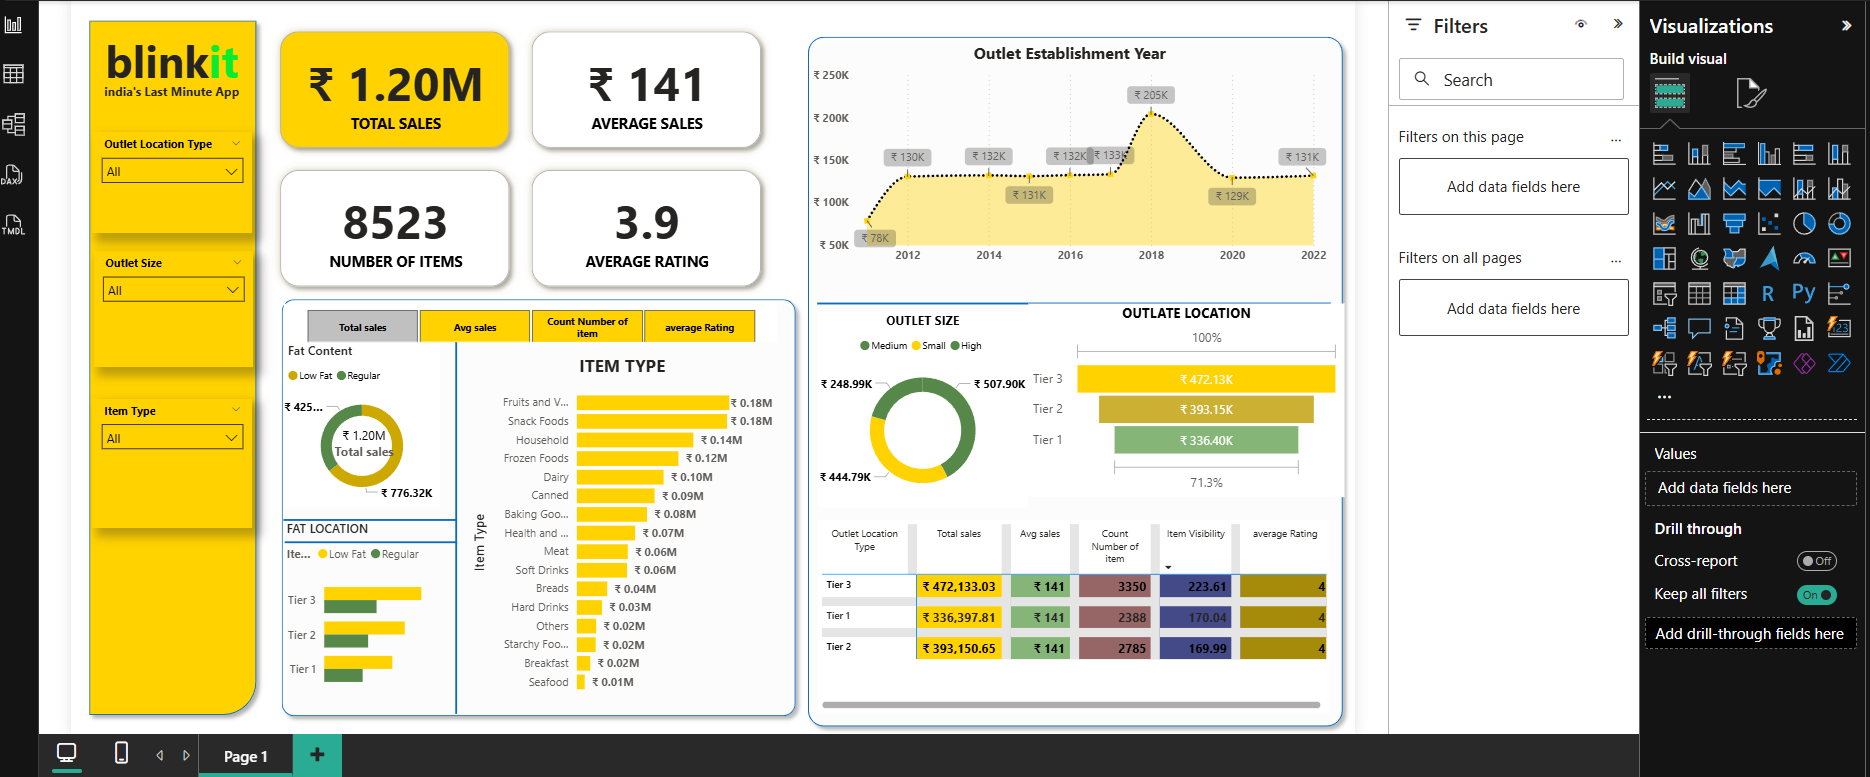

Layout of this report page (visuals, bound fields, positions):
{"tool":"powerbi","page":{"name":"Page 1","canvas":[1400,800],"ordinal":0},"visuals":[{"type":"shape","box":[11.2,12.8,200.3,775.5],"z":0},{"type":"textbox","box":[261.2,664.9,289.7,99.1],"z":1000},{"type":"textbox","box":[31.5,27,157.6,79.5],"z":2000},{"type":"textbox","box":[31.5,84,157.6,45],"z":3000},{"type":"cardVisual","fields":{"Data":["BlinkIT Grocery Data.Total sales","BlinkIT Grocery Data.Avg sales","BlinkIT Grocery Data.Count Number of item","BlinkIT Grocery Data.average Rating"]},"box":[211.3,16.4,559,313.6],"z":4000},{"type":"shape","box":[221.1,315.6,578.4,472.6],"z":5000},{"type":"donutChart","title":"Fat Content","fields":{"Y":["BlinkIT Grocery Data.Total sales"],"Category":["BlinkIT Grocery Data.Item Fat Content"]},"box":[232.3,371.7,171.4,181],"z":6000},{"type":"slicer","fields":{"Values":["MATRIX.MATRIX"]},"box":[232.3,330.1,538.3,41.7],"z":7000},{"type":"cardVisual","fields":{"Data":["BlinkIT Grocery Data.Total sales"]},"box":[261.2,447,117,65.7],"z":8000},{"type":"clusteredBarChart","title":"FAT LOCATION","fields":{"Y":["BlinkIT Grocery Data.Total sales"],"Category":["BlinkIT Grocery Data.Outlet Location Type"],"Series":["BlinkIT Grocery Data.Item Fat Content"]},"box":[230.7,565.6,189.1,198.7],"z":9000},{"type":"barChart","title":"ITEM TYPE","fields":{"Y":["BlinkIT Grocery Data.Total sales"],"Category":["BlinkIT Grocery Data.Item Type"]},"box":[432.6,384.5,338.1,379.7],"z":10000},{"type":"shape","box":[232.3,408.6,189.1,314],"z":11000},{"type":"shape","box":[314,371.7,213.1,405.4],"z":12000},{"type":"shape","box":[794.8,30,601.2,770.3],"z":13000},{"type":"lineChart","title":" Outlet Establishment Year","fields":{"Y":["BlinkIT Grocery Data.Total sales"],"Category":["BlinkIT Grocery Data.Outlet Establishment Year"]},"box":[804.4,45,569.9,250.9],"z":14000},{"type":"shape","box":[813.9,173.1,560.3,313.6],"z":15000},{"type":"shape","box":[233.1,433.5,188.1,313.6],"z":16000},{"type":"donutChart","title":"OUTLET SIZE","fields":{"Y":["BlinkIT Grocery Data.Total sales"],"Category":["BlinkIT Grocery Data.Outlet Size"]},"box":[813.9,339.5,230.4,212.7],"z":17000},{"type":"funnel","title":"OUTLATE LOCATION","fields":{"Y":["BlinkIT Grocery Data.Total sales"],"Category":["BlinkIT Grocery Data.Outlet Location Type"]},"box":[1044.3,329.9,344.9,211.3],"z":18000},{"type":"pivotTable","fields":{"Rows":["BlinkIT Grocery Data.Outlet Location Type"],"Values":["BlinkIT Grocery Data.Total sales","BlinkIT Grocery Data.Avg sales","BlinkIT Grocery Data.Count Number of item","Sum(BlinkIT Grocery Data.Item Visibility)","BlinkIT Grocery Data.average Rating"]},"box":[813.9,565.8,560.3,211.3],"z":19000},{"type":"slicer","fields":{"Values":["BlinkIT Grocery Data.Outlet Location Type"]},"box":[23.2,143.2,174.5,110.4],"z":20000},{"type":"slicer","fields":{"Values":["BlinkIT Grocery Data.Outlet Size"]},"box":[24.5,272.7,174.5,126.8],"z":21000},{"type":"slicer","fields":{"Values":["BlinkIT Grocery Data.Item Type"]},"box":[23.2,433.5,174.5,140.4],"z":22000}]}

Visuals, with their boxes on the page's 1400x800 design canvas (x1, y1, x2, y2). These are canvas units, not pixel positions in the 1870x777 screenshot, which may show the page scaled, cropped or inside an application window:
shape: x1=11, y1=13, x2=212, y2=788
textbox: x1=261, y1=665, x2=551, y2=764
textbox: x1=32, y1=27, x2=189, y2=106
textbox: x1=32, y1=84, x2=189, y2=129
cardVisual - BlinkIT Grocery Data.Total sales x BlinkIT Grocery Data.Avg sales: x1=211, y1=16, x2=770, y2=330
shape: x1=221, y1=316, x2=800, y2=788
"Fat Content" donutChart: x1=232, y1=372, x2=404, y2=553
slicer - MATRIX.MATRIX: x1=232, y1=330, x2=771, y2=372
cardVisual - BlinkIT Grocery Data.Total sales: x1=261, y1=447, x2=378, y2=513
"FAT LOCATION" clusteredBarChart: x1=231, y1=566, x2=420, y2=764
"ITEM TYPE" barChart: x1=433, y1=384, x2=771, y2=764
shape: x1=232, y1=409, x2=421, y2=723
shape: x1=314, y1=372, x2=527, y2=777
shape: x1=795, y1=30, x2=1396, y2=800
" Outlet Establishment Year" lineChart: x1=804, y1=45, x2=1374, y2=296
shape: x1=814, y1=173, x2=1374, y2=487
shape: x1=233, y1=434, x2=421, y2=747
"OUTLET SIZE" donutChart: x1=814, y1=340, x2=1044, y2=552
"OUTLATE LOCATION" funnel: x1=1044, y1=330, x2=1389, y2=541
pivotTable - BlinkIT Grocery Data.Outlet Location Type x BlinkIT Grocery Data.Total sales: x1=814, y1=566, x2=1374, y2=777
slicer - BlinkIT Grocery Data.Outlet Location Type: x1=23, y1=143, x2=198, y2=254
slicer - BlinkIT Grocery Data.Outlet Size: x1=24, y1=273, x2=199, y2=400
slicer - BlinkIT Grocery Data.Item Type: x1=23, y1=434, x2=198, y2=574
